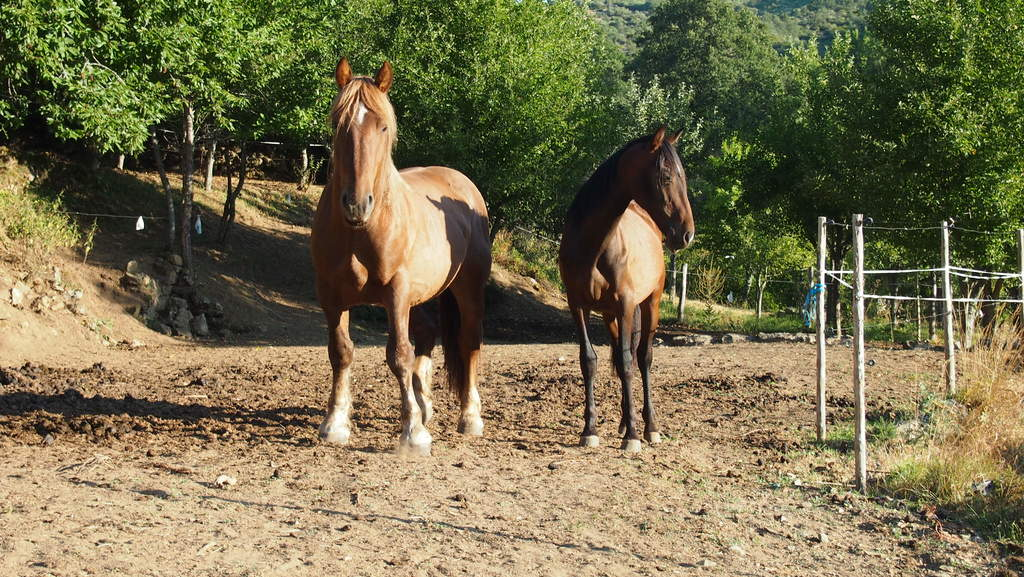horse: (306, 53, 492, 457), (556, 121, 697, 455)
